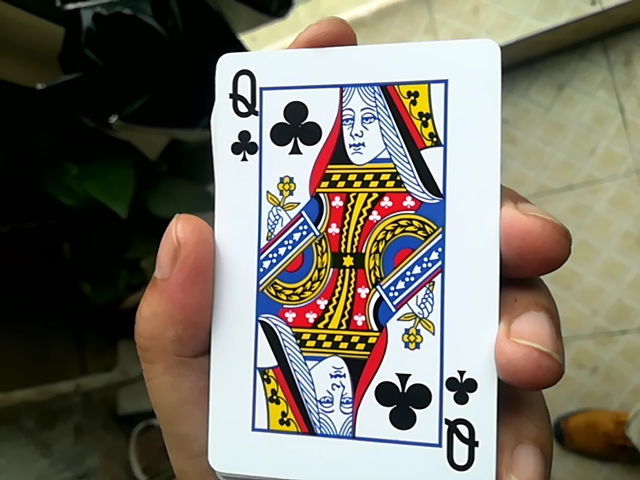mh q: (203, 28, 497, 480)
